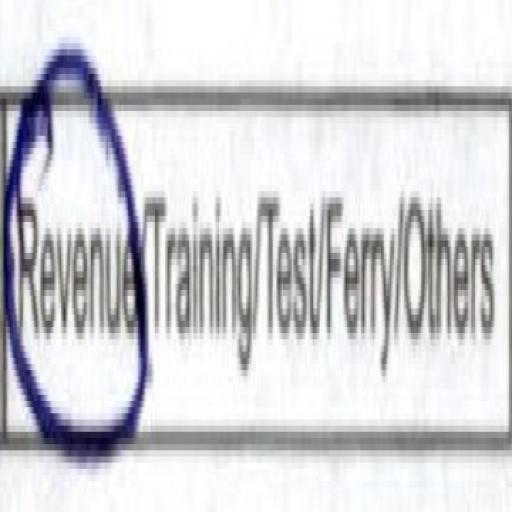check: (0, 0, 148, 450)
